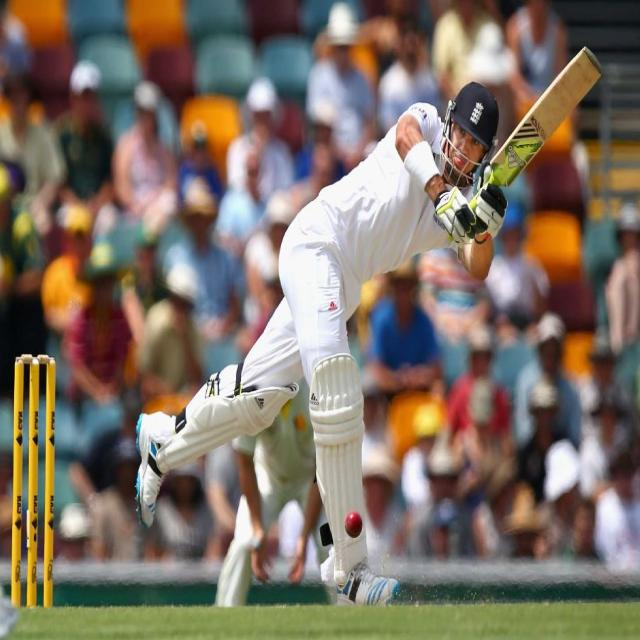ball: (344, 512, 364, 540)
stump: (7, 352, 54, 612)
